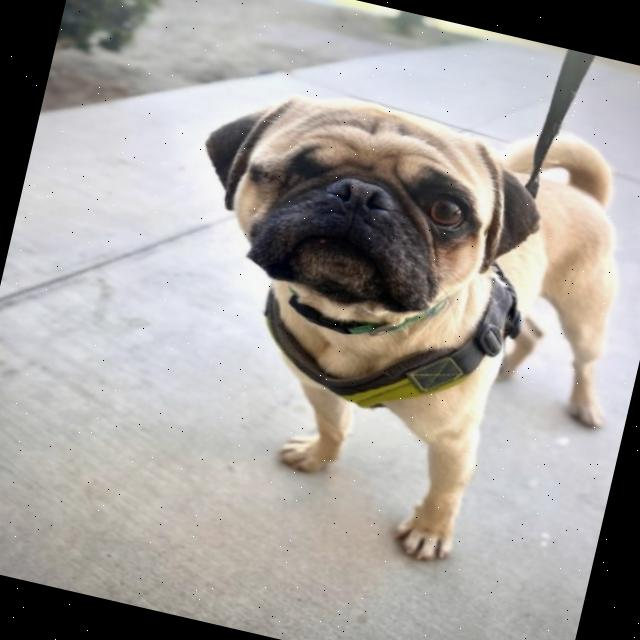pug_dog: (162, 61, 570, 372)
